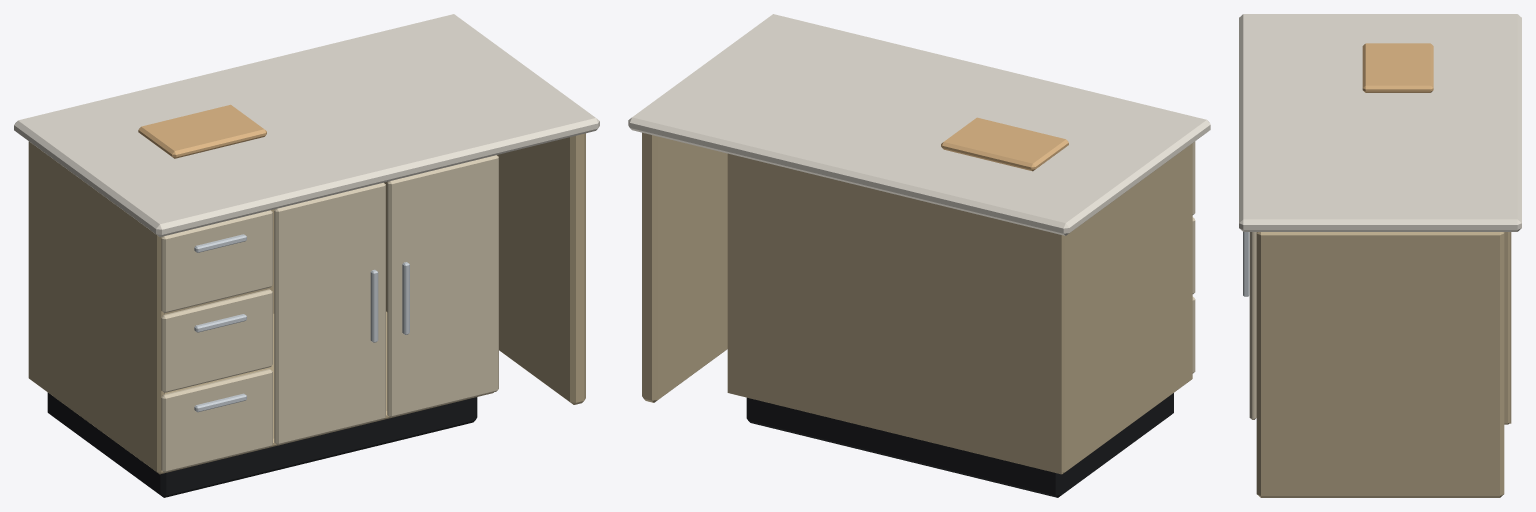
Rendered from kitchen_island.glb.
3 renders of one model, left to right at view 1: azimuth 30°, elevation 25°; view 2: azimuth 150°, elevation 25°; view 3: azimuth 270°, elevation 25°, orthographic. The views are drawn at different scales.
Parts seen in each view (by area): view 1: kitchen_island_Body; view 2: kitchen_island_Body; view 3: kitchen_island_Body.
Boxes of the visible parts, bbox=[...] form: kitchen_island_Body: bbox=[14, 14, 599, 497]; kitchen_island_Body: bbox=[628, 14, 1210, 497]; kitchen_island_Body: bbox=[1239, 14, 1521, 497].
Bounding box in the file's own units: 1.4 × 0.9 × 0.8.
